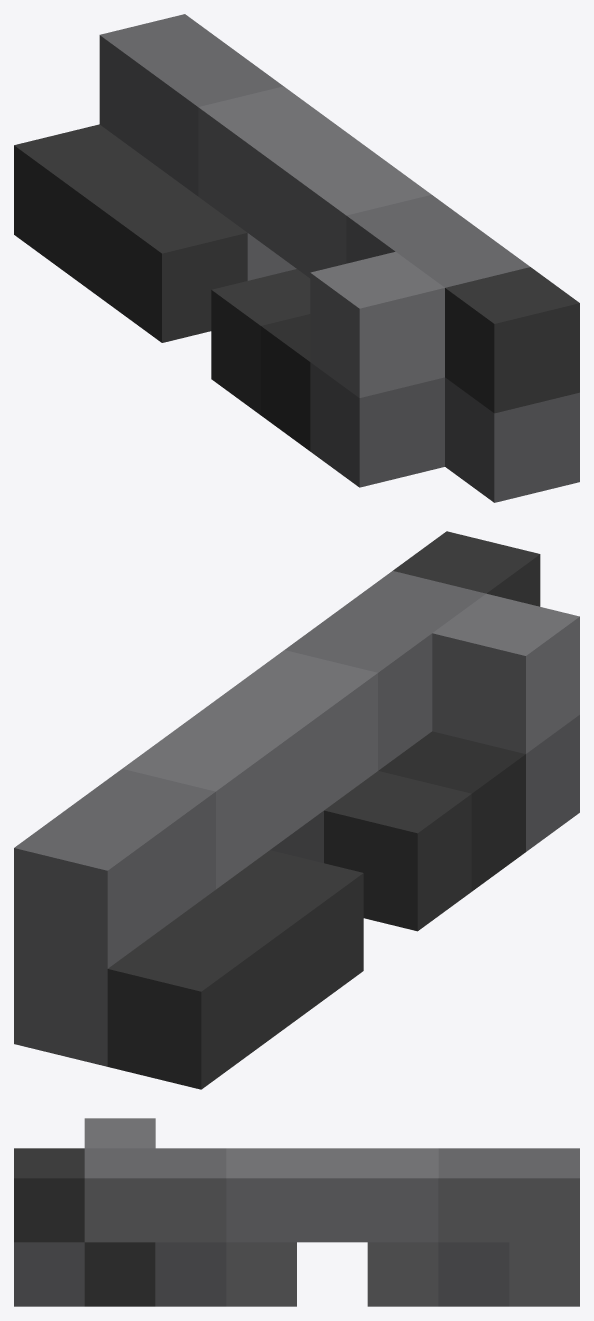
The model's file is johnnyArmLeft.obj.
The picture shows the model from 3 angles, top to bottom: view 1: azimuth 30°, elevation 25°; view 2: azimuth 150°, elevation 25°; view 3: azimuth 270°, elevation 25°; orthographic projection. The views are drawn at different scales.
Parts seen in each view (by area): view 1: johnnyArmLeft; view 2: johnnyArmLeft; view 3: johnnyArmLeft.
Part boxes in pixels (x1,y1,x2,y2): johnnyArmLeft: [14, 14, 579, 502]; johnnyArmLeft: [14, 531, 579, 1089]; johnnyArmLeft: [14, 1118, 579, 1306].
Size of the model in its own units: 2 by 2 by 8.
Materials: 1 (1 with a texture image).
